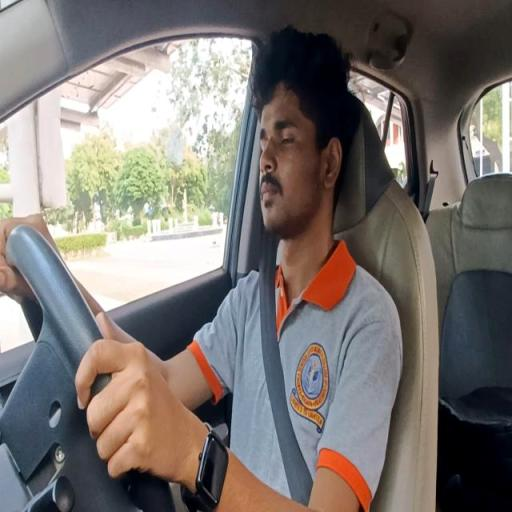sleepy: (2, 23, 404, 512)
